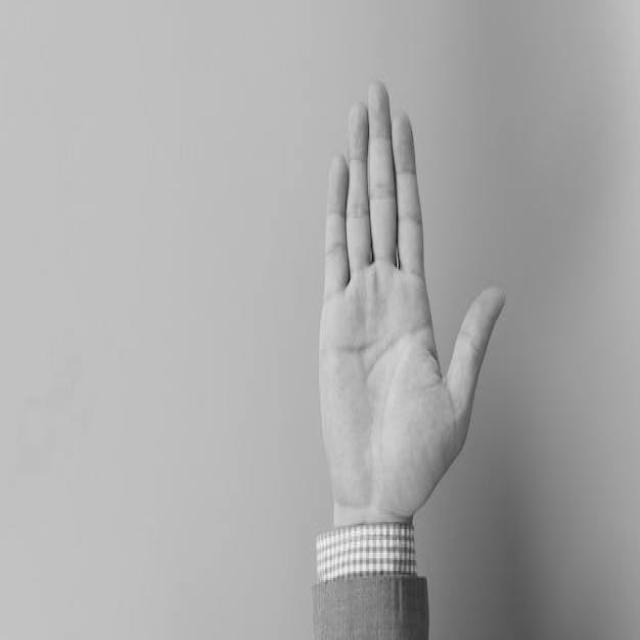stop: (316, 76, 510, 529)
